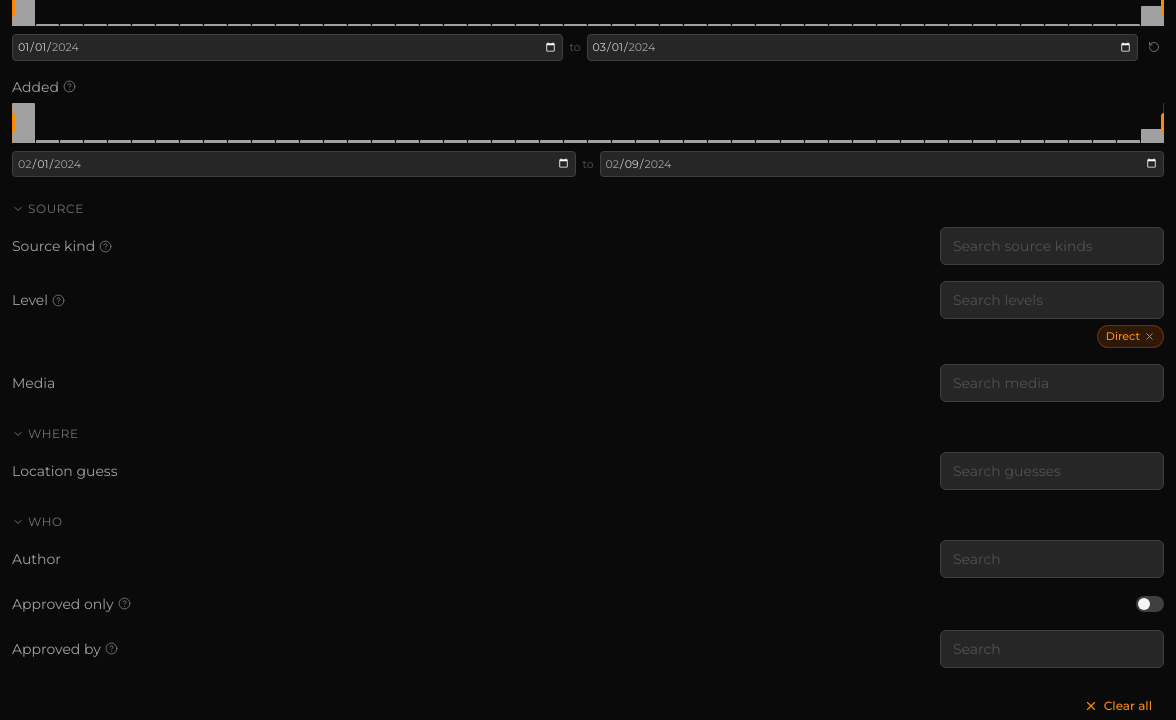
Test case: <FilterPanel> › offers Clear all once a filter is on, and it clears every filter
(page scrolled)
Click the button "Clear all" at (1118, 706), box [1072,692,1164,719]
(page scrolled)
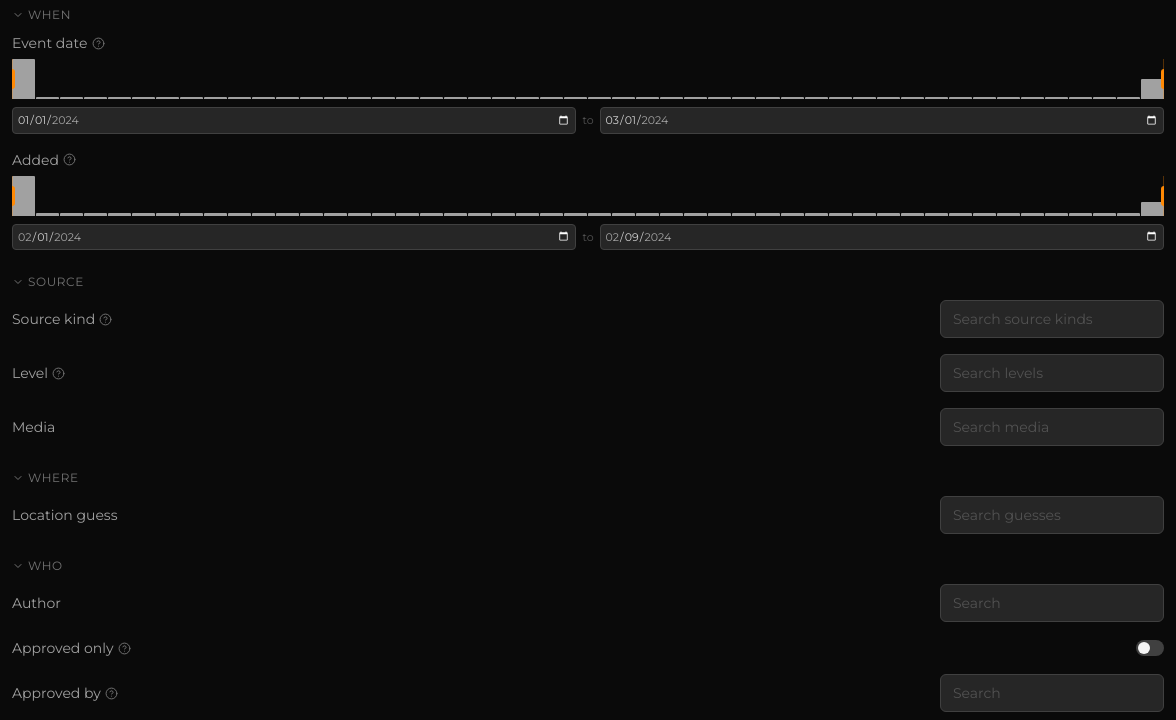
Result: the button "Clear all" is gone
